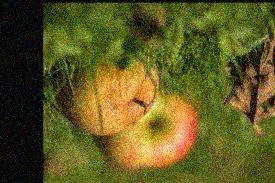rotten apple: (55, 64, 161, 133)
